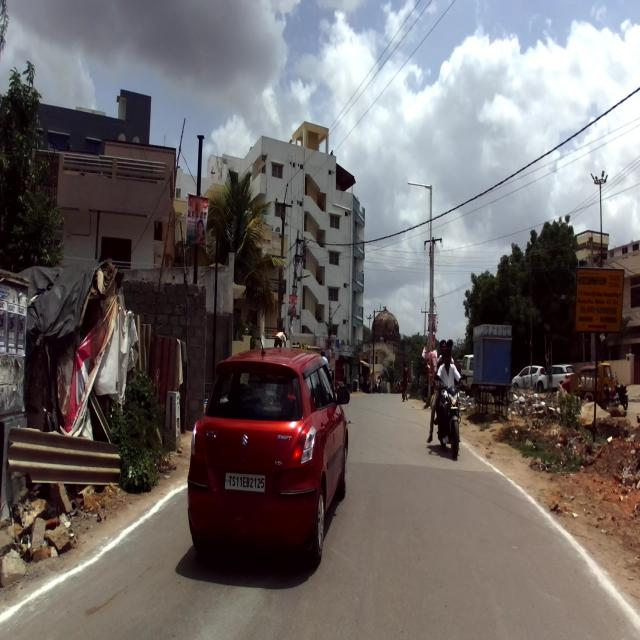Car_Maruti-Suzuki: (187, 338, 352, 570)
motorcycle_bajaj: (434, 373, 465, 458)
